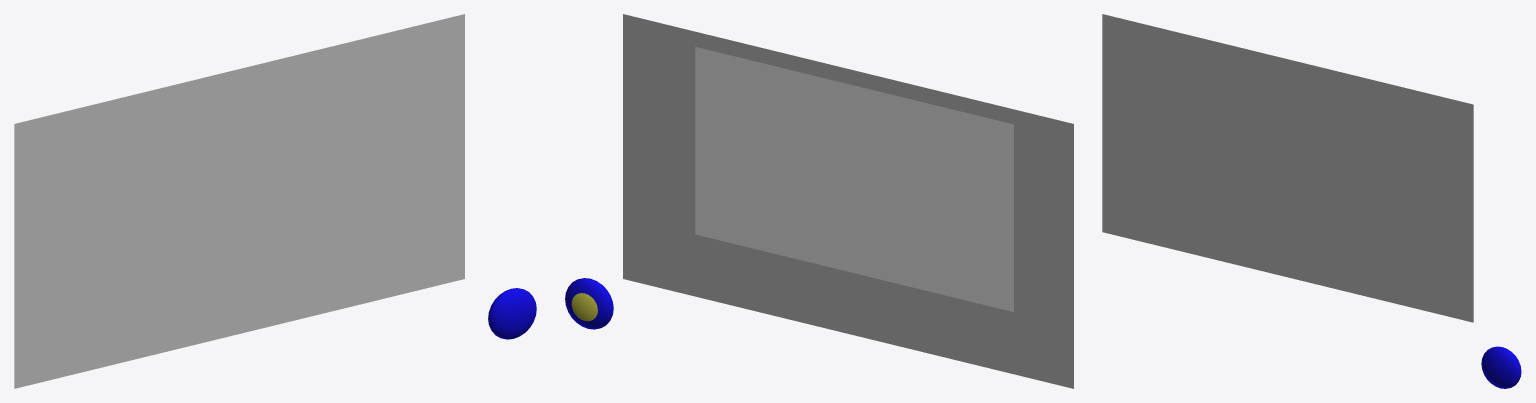
Rendered from Hotspot.gltf.
3 renders of one model, left to right at view 1: azimuth 30°, elevation 25°; view 2: azimuth 150°, elevation 25°; view 3: azimuth 330°, elevation 25°, orthographic. The views are drawn at different scales.
Visible parts, largest first — view 1: Canvas, Hotspot; view 2: VideoHolder, Canvas, Hotspot, BotonVideo3D, Pause, Close, Play; view 3: Canvas, Hotspot.
Part boxes in pixels (x1=…): Canvas: x1=14, y1=14, x2=464, y2=388; Hotspot: x1=488, y1=288, x2=536, y2=339; VideoHolder: x1=695, y1=47, x2=1013, y2=311; Canvas: x1=623, y1=14, x2=1073, y2=388; Hotspot: x1=565, y1=278, x2=613, y2=329; BotonVideo3D: x1=642, y1=245, x2=679, y2=291; Pause: x1=970, y1=323, x2=1006, y2=369; Close: x1=1023, y1=336, x2=1059, y2=382; Play: x1=919, y1=313, x2=955, y2=359; Canvas: x1=1102, y1=14, x2=1473, y2=322; Hotspot: x1=1481, y1=346, x2=1521, y2=388.
Bounding box in the file's own units: 0.4428 × 0.2707 × 0.0258.
